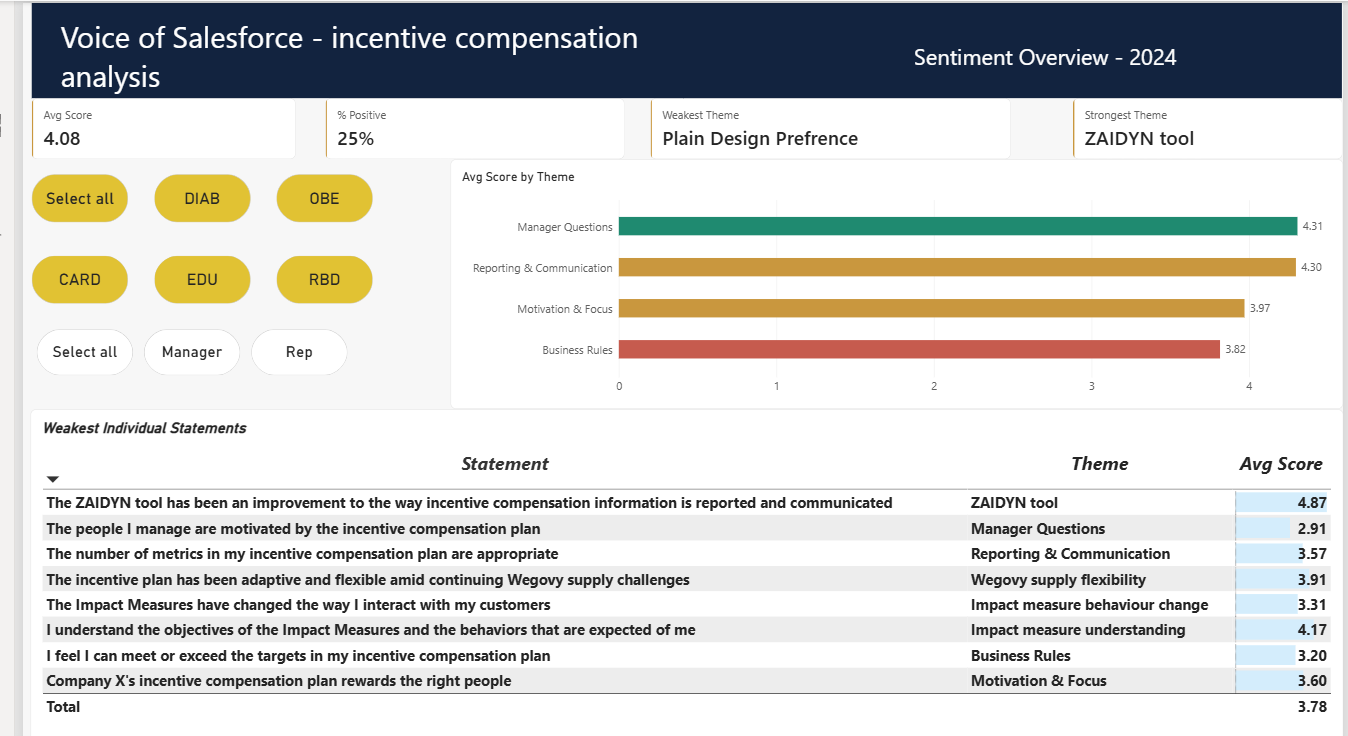

This screenshot's page, from the dashboard's own definition file:
{"tool":"powerbi","page":{"name":"Page 2","canvas":[1920,1080],"ordinal":1},"visuals":[{"type":"clusteredBarChart","fields":{"Category":["Question_Map.Theme"],"Y":["Fact_Sentiment_Long.Avg Score"]},"box":[621.1,227.2,1298.5,363.6],"z":0},{"type":"tableEx","title":"Weakest Individual Statements","fields":{"Values":["Question_Map.Statement","Question_Map.Theme","Fact_Sentiment_Long.Avg Score"]},"box":[10.7,590.9,1909.3,488.5],"z":1000},{"type":"cardVisual","fields":{"Data":["Question_Map.Weakest Theme"]},"box":[913.1,138.7,524.8,89.6],"z":2000},{"type":"cardVisual","fields":{"Data":["Question_Map.Strongest Theme"]},"box":[1527.5,138.7,392.5,89.6],"z":3000},{"type":"cardVisual","fields":{"Data":["Fact_Sentiment_Long.% Positive"]},"box":[439.5,138.7,435.2,89.6],"z":4000},{"type":"cardVisual","fields":{"Data":["Fact_Sentiment_Long.Avg Score"]},"box":[12.8,138.7,384,89.6],"z":5000},{"type":"textbox","box":[13,0,947.9,138.5],"z":6000},{"type":"textbox","box":[960.9,0,958.7,138.5],"z":7000},{"type":"advancedSlicerVisual","fields":{"Values":["Fact_Sentiment_Long.TA"]},"box":[13,248.9,586.5,225.1],"z":8000},{"type":"advancedSlicerVisual","fields":{"Values":["Fact_Sentiment_Long.Role Level"]},"box":[0,473.9,599.5,67.1],"z":9000}]}

Visuals, with their boxes on the page's 1920x1080 design canvas (x1, y1, x2, y2). These are canvas units, not pixel positions in the 1348x736 screenshot, which may show the page scaled, cropped or inside an application window:
clusteredBarChart - Question_Map.Theme x Fact_Sentiment_Long.Avg Score: 621, 227, 1920, 591
"Weakest Individual Statements" tableEx: 11, 591, 1920, 1079
cardVisual - Question_Map.Weakest Theme: 913, 139, 1438, 228
cardVisual - Question_Map.Strongest Theme: 1528, 139, 1920, 228
cardVisual - Fact_Sentiment_Long.% Positive: 440, 139, 875, 228
cardVisual - Fact_Sentiment_Long.Avg Score: 13, 139, 397, 228
textbox: 13, 0, 961, 138
textbox: 961, 0, 1920, 138
advancedSlicerVisual - Fact_Sentiment_Long.TA: 13, 249, 600, 474
advancedSlicerVisual - Fact_Sentiment_Long.Role Level: 0, 474, 600, 541
